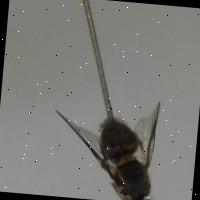Oriental-fruit-fly: (49, 89, 173, 200)
